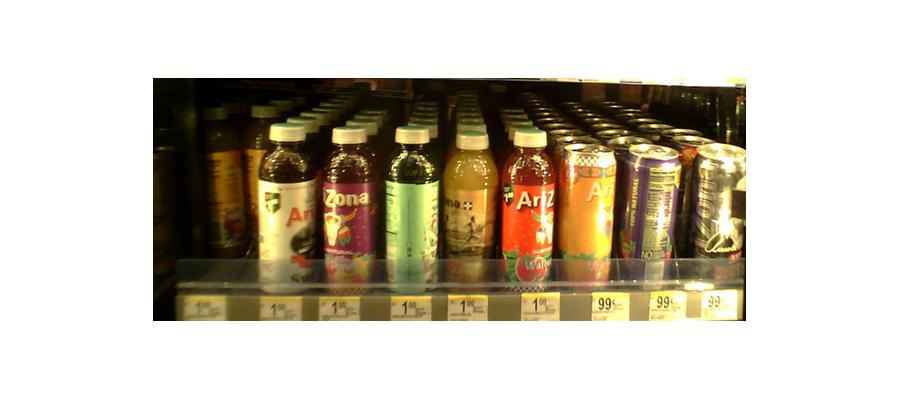bottle: (257, 122, 317, 292), (383, 122, 439, 293), (618, 137, 680, 287), (322, 122, 376, 292), (503, 120, 554, 291), (444, 118, 495, 286), (559, 134, 615, 286), (689, 137, 742, 284), (202, 109, 238, 263)
